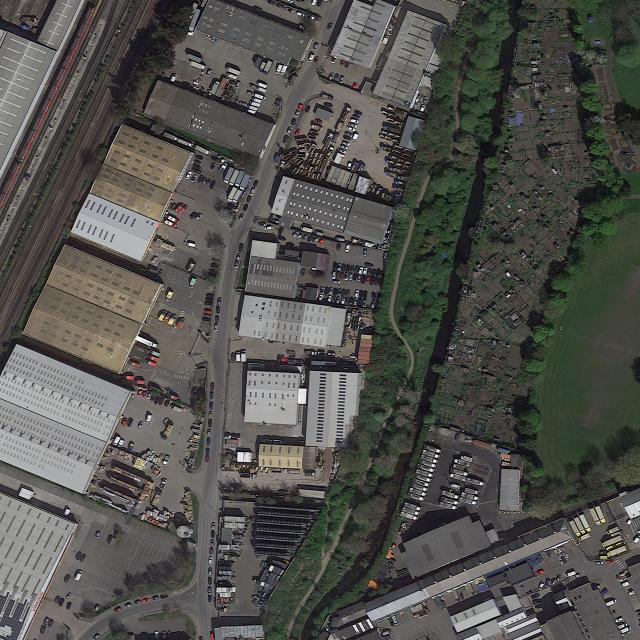large-vehicle: (187, 9, 203, 37), (135, 335, 159, 349), (601, 535, 624, 548), (606, 545, 628, 558), (579, 513, 593, 533), (573, 516, 587, 535), (149, 490, 163, 509), (589, 507, 602, 527), (594, 505, 607, 524), (223, 166, 235, 185), (569, 520, 582, 537), (161, 424, 174, 441), (239, 173, 251, 191), (234, 170, 246, 188), (416, 463, 436, 473), (229, 169, 240, 187), (231, 189, 244, 204), (340, 107, 352, 123), (423, 444, 442, 454), (420, 454, 439, 464), (415, 468, 434, 478), (413, 473, 432, 483), (412, 478, 431, 488), (410, 482, 429, 492), (403, 502, 422, 512), (400, 511, 419, 521), (323, 132, 334, 149), (190, 60, 207, 71), (441, 490, 459, 500), (460, 492, 480, 501), (419, 459, 437, 469), (409, 487, 427, 497), (407, 492, 425, 502), (401, 507, 421, 516), (227, 187, 238, 203), (195, 145, 211, 156), (210, 80, 221, 96), (450, 468, 469, 477), (440, 497, 459, 506), (439, 501, 458, 510), (459, 497, 478, 506), (384, 125, 401, 135), (177, 138, 194, 148), (449, 473, 467, 482), (454, 458, 472, 467), (422, 450, 440, 459), (225, 66, 241, 76), (263, 60, 273, 76), (466, 478, 485, 486), (163, 131, 178, 141), (605, 526, 620, 536), (578, 532, 592, 542), (144, 358, 157, 368), (451, 589, 461, 602), (466, 583, 476, 596), (174, 203, 185, 214), (158, 310, 168, 322), (177, 205, 189, 215), (325, 146, 335, 158), (350, 161, 360, 173), (464, 487, 479, 495), (164, 219, 177, 228), (168, 313, 177, 326), (167, 215, 180, 224), (321, 93, 334, 102), (609, 531, 622, 540), (170, 404, 183, 413), (384, 171, 398, 179), (460, 455, 474, 463), (307, 143, 317, 154), (163, 312, 172, 324), (471, 581, 480, 593), (168, 393, 180, 402), (162, 455, 171, 467), (159, 478, 168, 490), (240, 473, 258, 479), (148, 349, 161, 357), (393, 186, 406, 194), (389, 166, 402, 174), (300, 226, 313, 234), (188, 278, 197, 289), (165, 291, 174, 302), (177, 318, 186, 329), (374, 187, 383, 198), (357, 164, 366, 175), (147, 354, 159, 362), (395, 180, 407, 188), (385, 159, 397, 167), (381, 145, 393, 153), (311, 124, 323, 132), (453, 463, 465, 471), (284, 469, 300, 475), (448, 483, 461, 490), (393, 194, 401, 205), (259, 62, 267, 73), (391, 615, 399, 626), (128, 361, 140, 368), (397, 175, 409, 182), (128, 361, 140, 368), (606, 544, 616, 552), (113, 436, 121, 446), (388, 155, 399, 162), (615, 541, 626, 548), (615, 541, 626, 548), (382, 35, 389, 45), (606, 544, 616, 551), (123, 375, 136, 380), (134, 380, 147, 385), (241, 350, 246, 362), (305, 350, 317, 355), (274, 440, 286, 445), (262, 439, 273, 444), (236, 352, 241, 362), (280, 160, 286, 168)
small-vehicle: (218, 163, 228, 174), (254, 93, 267, 101), (256, 81, 268, 89), (620, 626, 632, 634), (75, 570, 83, 581), (606, 599, 617, 607), (63, 508, 71, 519), (249, 101, 261, 108), (565, 571, 577, 578), (280, 65, 288, 75), (276, 64, 283, 75), (256, 86, 267, 93), (226, 73, 237, 80), (251, 97, 262, 104), (245, 109, 257, 115), (192, 167, 202, 174), (279, 244, 286, 254), (620, 581, 630, 588), (382, 252, 389, 262), (572, 581, 582, 588), (145, 414, 152, 424), (247, 105, 258, 111), (382, 630, 393, 636), (190, 212, 198, 220), (317, 238, 325, 246), (195, 213, 203, 221), (197, 175, 204, 184), (285, 7, 294, 14), (170, 73, 177, 82), (185, 171, 192, 180), (197, 175, 204, 184), (308, 54, 315, 63), (352, 133, 359, 142), (454, 433, 461, 442), (182, 81, 191, 88), (158, 397, 165, 406), (128, 443, 135, 452), (118, 439, 125, 448), (314, 231, 324, 237), (305, 14, 315, 20), (618, 623, 628, 629), (482, 597, 492, 603), (195, 214, 203, 221), (210, 162, 217, 170), (301, 234, 309, 241), (312, 237, 320, 244), (331, 56, 338, 64), (282, 136, 289, 144), (64, 575, 71, 583), (58, 598, 65, 606), (43, 618, 50, 626), (80, 554, 87, 562), (170, 203, 177, 211), (626, 517, 633, 525), (227, 202, 235, 209), (335, 237, 346, 242), (210, 156, 219, 162), (345, 244, 351, 253), (210, 180, 216, 189), (324, 102, 333, 108), (354, 110, 363, 116), (347, 126, 356, 132), (337, 148, 346, 154), (254, 7, 263, 13), (40, 626, 46, 635), (113, 607, 122, 613), (615, 617, 624, 623), (531, 593, 540, 599), (535, 605, 544, 611), (545, 579, 551, 588), (122, 418, 128, 427), (113, 530, 119, 539), (107, 535, 113, 544), (292, 231, 299, 238), (307, 236, 314, 243), (328, 73, 335, 80), (538, 583, 545, 590), (550, 578, 557, 585), (136, 390, 143, 397), (559, 587, 567, 593), (390, 20, 396, 28), (193, 164, 201, 170), (194, 160, 202, 166), (278, 227, 284, 235), (250, 188, 256, 196), (313, 43, 319, 51), (193, 164, 201, 170), (191, 175, 197, 183), (194, 160, 202, 166), (343, 135, 351, 141), (294, 110, 300, 118), (295, 129, 301, 137), (274, 155, 280, 163), (339, 76, 345, 84), (277, 3, 285, 9), (268, 0, 276, 6), (235, 81, 241, 89), (239, 101, 247, 107), (124, 603, 132, 609), (55, 596, 61, 604), (66, 602, 72, 610), (48, 620, 54, 628), (76, 552, 82, 560), (300, 268, 306, 276), (593, 584, 601, 590), (533, 599, 541, 605), (556, 575, 562, 583), (573, 573, 581, 579), (365, 276, 371, 284), (154, 397, 160, 405), (164, 399, 170, 407), (138, 421, 144, 429), (127, 419, 133, 427), (95, 531, 101, 539), (187, 242, 196, 247), (264, 226, 273, 231), (286, 243, 295, 248), (361, 275, 366, 284), (378, 277, 383, 286), (365, 263, 374, 268), (195, 155, 204, 160), (349, 123, 358, 128), (133, 600, 142, 605), (265, 236, 274, 241), (536, 570, 545, 575), (203, 313, 212, 318), (204, 301, 213, 306), (234, 260, 239, 269), (305, 472, 316, 476), (390, 21, 396, 28), (206, 179, 212, 186), (420, 105, 426, 112), (239, 214, 245, 221), (297, 233, 304, 239), (246, 196, 252, 203), (253, 180, 259, 187), (210, 181, 216, 188), (287, 127, 293, 134), (253, 180, 259, 187), (305, 106, 311, 113), (334, 74, 340, 81), (249, 83, 256, 89), (206, 70, 212, 77), (94, 605, 100, 612), (318, 295, 324, 302), (150, 395, 156, 402), (388, 28, 393, 36), (423, 97, 428, 105), (376, 269, 381, 277), (278, 236, 286, 241), (272, 219, 280, 224), (337, 243, 342, 251), (371, 269, 376, 277), (341, 264, 346, 272), (333, 263, 338, 271), (239, 244, 244, 252), (243, 204, 248, 212), (324, 287, 329, 295), (349, 297, 354, 305), (363, 291, 368, 299), (297, 12, 305, 17), (328, 23, 333, 31), (202, 177, 207, 185), (315, 119, 323, 124), (345, 132, 353, 137), (342, 141, 350, 146), (247, 91, 255, 96), (337, 263, 342, 271), (162, 631, 167, 639), (380, 270, 385, 278), (224, 207, 232, 212), (389, 618, 394, 626), (598, 556, 608, 560), (350, 266, 355, 274), (204, 309, 212, 314), (217, 298, 222, 306), (359, 267, 364, 275), (367, 268, 372, 276), (344, 273, 349, 281), (320, 287, 325, 295), (371, 301, 376, 309), (375, 277, 379, 286), (351, 119, 360, 123), (66, 593, 72, 599), (196, 155, 203, 160), (202, 177, 207, 184), (393, 16, 398, 23), (333, 288, 338, 295), (393, 16, 398, 23), (291, 119, 296, 126), (353, 115, 360, 120), (341, 145, 348, 150), (298, 104, 303, 111), (345, 62, 350, 69), (371, 79, 378, 84), (161, 594, 168, 599), (278, 147, 283, 154), (601, 589, 608, 594), (600, 550, 607, 555), (460, 593, 465, 600), (237, 253, 242, 260), (363, 268, 368, 275), (336, 297, 341, 304), (362, 300, 367, 307), (142, 391, 147, 398), (353, 273, 357, 281), (370, 277, 374, 285), (232, 353, 236, 361), (202, 317, 210, 321), (206, 298, 214, 302), (206, 294, 214, 298), (216, 306, 220, 314), (277, 355, 281, 363), (359, 290, 363, 298), (358, 298, 362, 306), (363, 249, 367, 257), (142, 599, 150, 603), (155, 632, 159, 640), (208, 577, 212, 585), (208, 587, 212, 595), (316, 272, 324, 276), (607, 560, 615, 564), (214, 324, 218, 332), (336, 272, 340, 280), (333, 280, 341, 284), (342, 289, 346, 297), (355, 290, 359, 298), (345, 298, 349, 306), (208, 419, 212, 427), (207, 438, 211, 446), (220, 159, 225, 165), (388, 29, 393, 35), (314, 57, 319, 63), (347, 163, 352, 169), (353, 83, 358, 89), (340, 60, 345, 66), (147, 393, 152, 399), (346, 265, 350, 272), (372, 293, 376, 300), (152, 597, 159, 601), (208, 596, 212, 603), (210, 549, 214, 556), (209, 557, 213, 564), (596, 561, 603, 565), (281, 355, 285, 362), (332, 296, 336, 303), (332, 272, 336, 279), (355, 266, 359, 273), (349, 274, 353, 281), (341, 273, 345, 280), (329, 288, 333, 295), (338, 289, 342, 296), (346, 290, 350, 297), (209, 411, 213, 418), (210, 392, 214, 399), (206, 448, 210, 455), (211, 531, 215, 538), (212, 523, 216, 530), (258, 223, 267, 226), (168, 631, 171, 639), (209, 568, 212, 576), (328, 296, 332, 302), (341, 298, 345, 304), (211, 383, 214, 391), (210, 402, 213, 410), (207, 429, 211, 435), (216, 317, 219, 324), (358, 275, 361, 282), (206, 456, 209, 463), (211, 540, 214, 547), (229, 81, 235, 84)
storage-tank: (176, 525, 194, 538)
